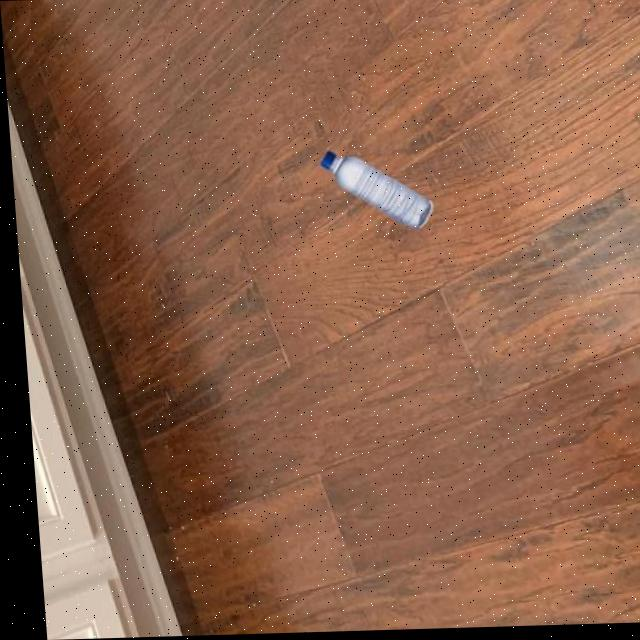bottle: (316, 149, 432, 234)
